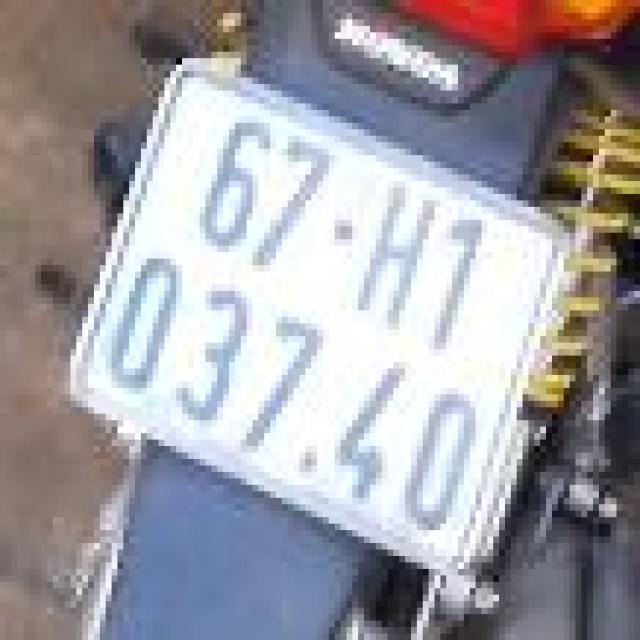0: (387, 374, 491, 549), (97, 242, 203, 400)
1: (408, 205, 514, 368)
3: (165, 277, 273, 433)
4: (325, 352, 426, 505)
6: (188, 101, 292, 260)
7: (222, 298, 338, 460), (242, 124, 349, 286)
H: (344, 171, 454, 339)
